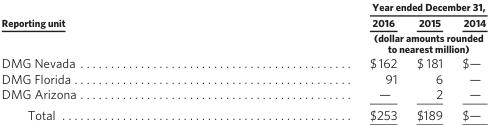table: (0, 0, 485, 121)
table column: (0, 0, 222, 121), (222, 0, 406, 121), (406, 0, 451, 121), (451, 0, 485, 121)
table column header: (0, 0, 485, 54)
table row: (0, 29, 485, 54), (0, 85, 485, 103), (0, 103, 485, 121), (0, 54, 485, 70), (0, 14, 485, 29), (0, 70, 485, 85), (0, 0, 485, 14)
table spanning cell: (0, 0, 222, 54), (222, 29, 485, 54), (222, 0, 485, 14)
